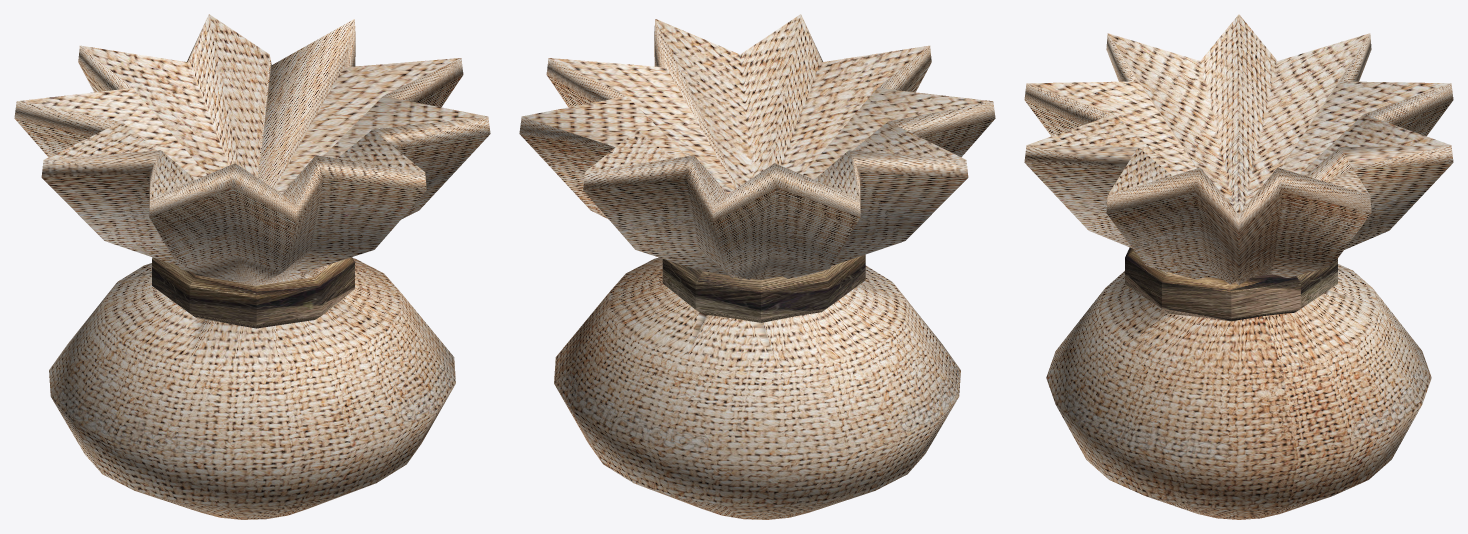
The model's file is package_textured.fbx.
3 views of the same model, side by side, from view 1: azimuth 30°, elevation 25°; view 2: azimuth 150°, elevation 25°; view 3: azimuth 270°, elevation 25° (orthographic).
Parts seen in each view (by area): view 1: pCylinder2; view 2: pCylinder2; view 3: pCylinder2.
Part boxes in pixels (x1,y1,x2,y2): pCylinder2: (14, 14, 490, 519); pCylinder2: (519, 14, 995, 519); pCylinder2: (1024, 14, 1453, 519).
Bounding box in the file's own units: 2.64 × 2.28 × 2.37.
